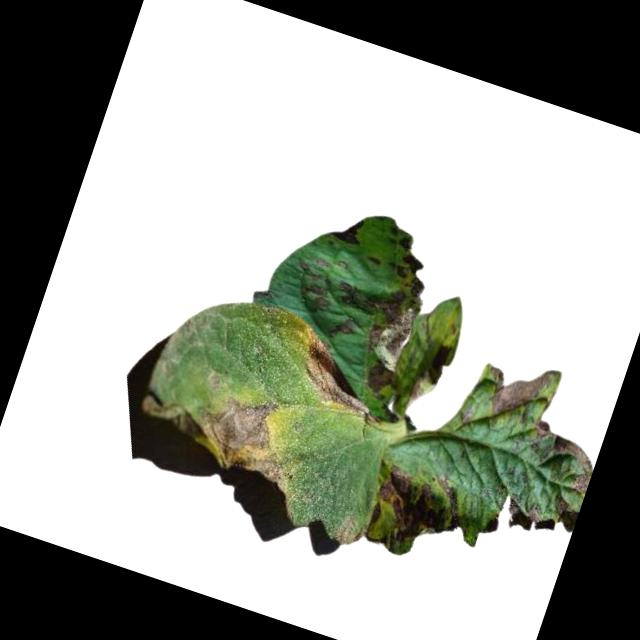Early_blight: (314, 256, 432, 394), (187, 379, 308, 489), (366, 455, 473, 558), (290, 335, 398, 427), (474, 350, 554, 435), (520, 420, 601, 493), (327, 207, 369, 248), (426, 339, 456, 386), (396, 251, 426, 279), (525, 500, 548, 524)
